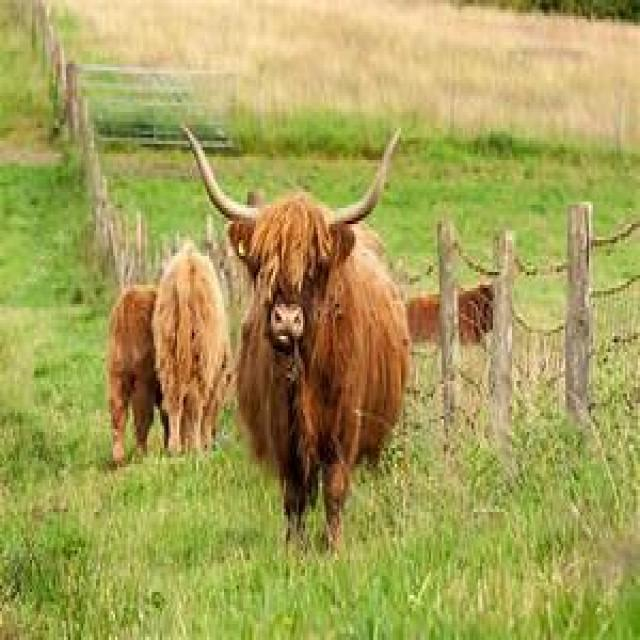cow: (207, 134, 412, 554), (149, 250, 235, 458), (107, 285, 164, 467)
